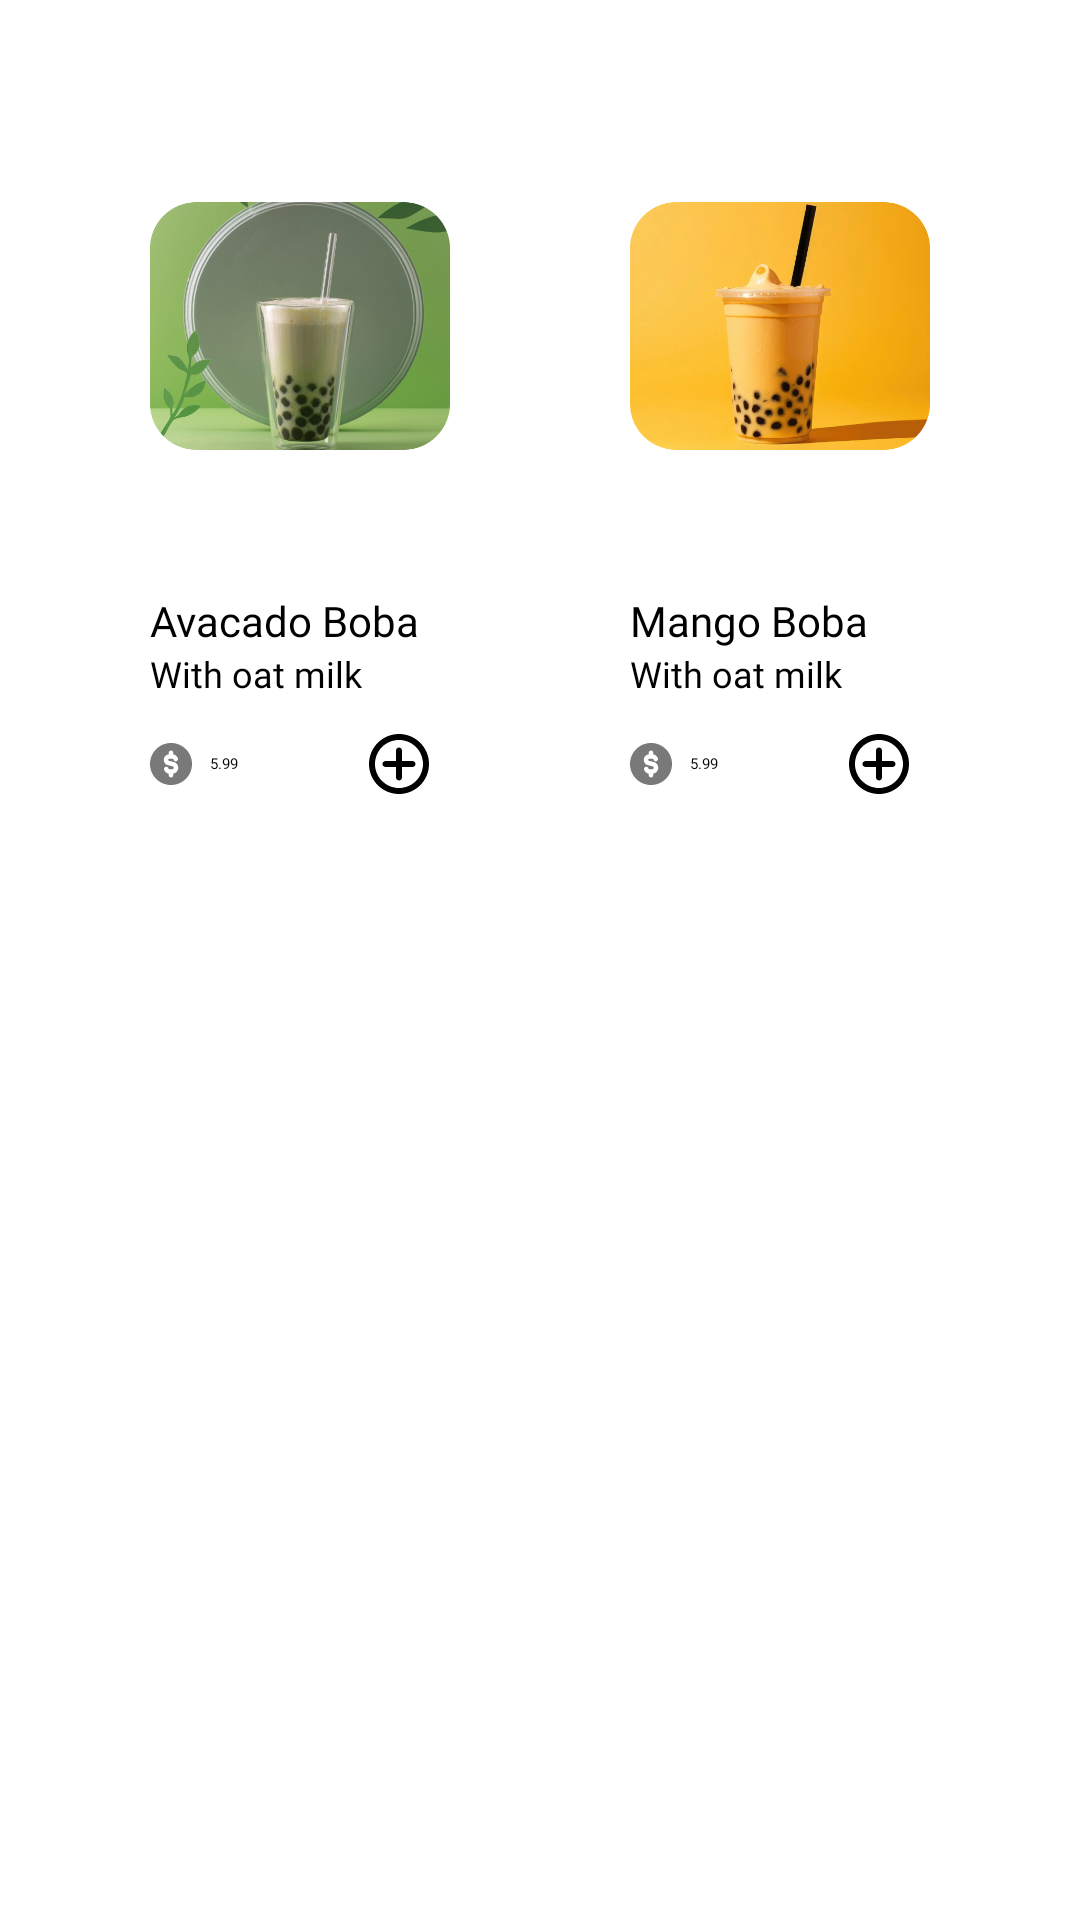

Point at icon controls on the screen. Image size 1080×1920, points as (x=x, y=y).
add circle: (x=399, y=764), (x=879, y=764)
dollar coin: (x=171, y=764), (x=651, y=764)
